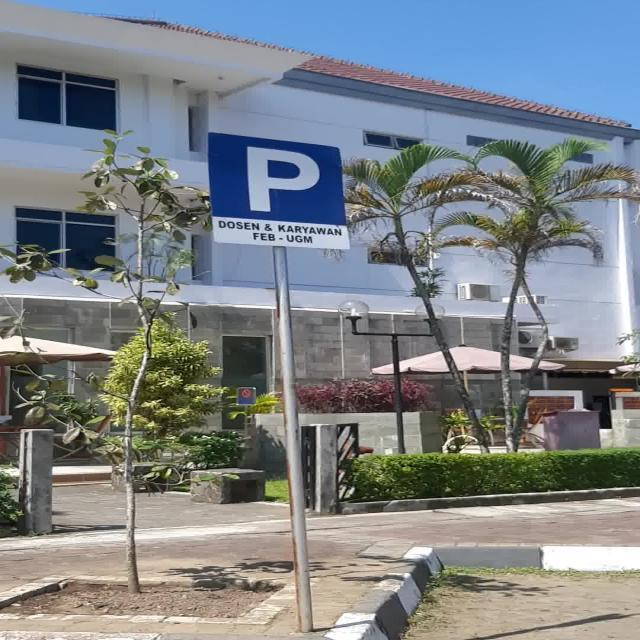Tempat Parkir: (206, 131, 352, 250)
